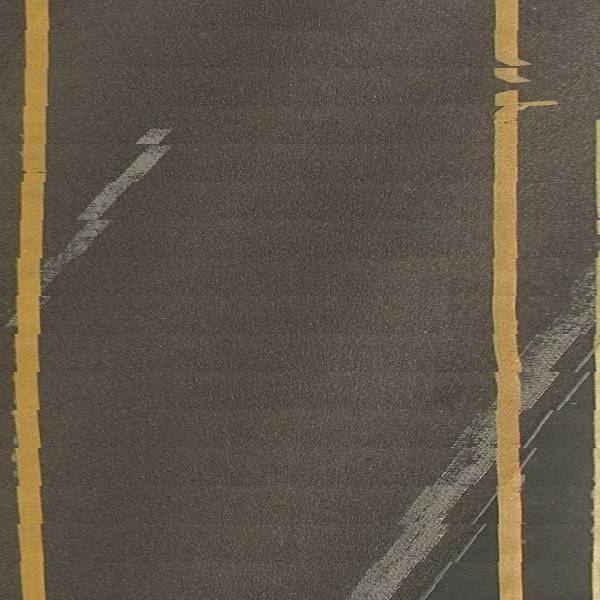road_damage: (422, 499, 495, 599)
